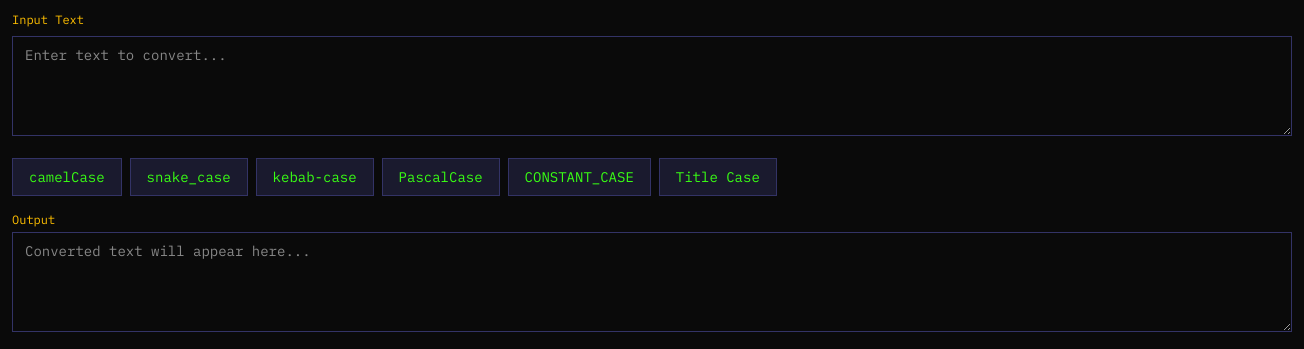
Test: CaseConverter › converts to camelCase when button is clicked
Type "hello_world" into the text box labelled "Input Text". click: (652, 86)
box: x1=12 y1=36 x2=1292 y2=136
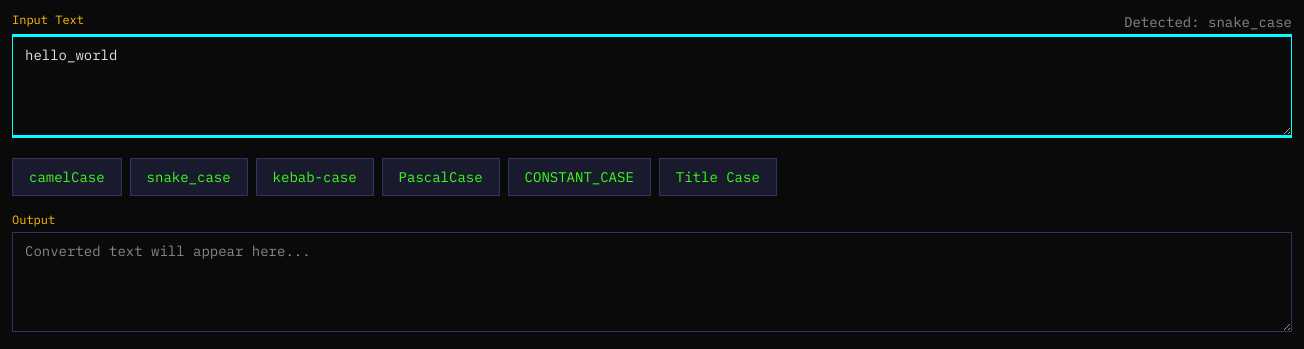
Click the button "camelCase". click: (67, 177)
box: x1=12 y1=158 x2=122 y2=196
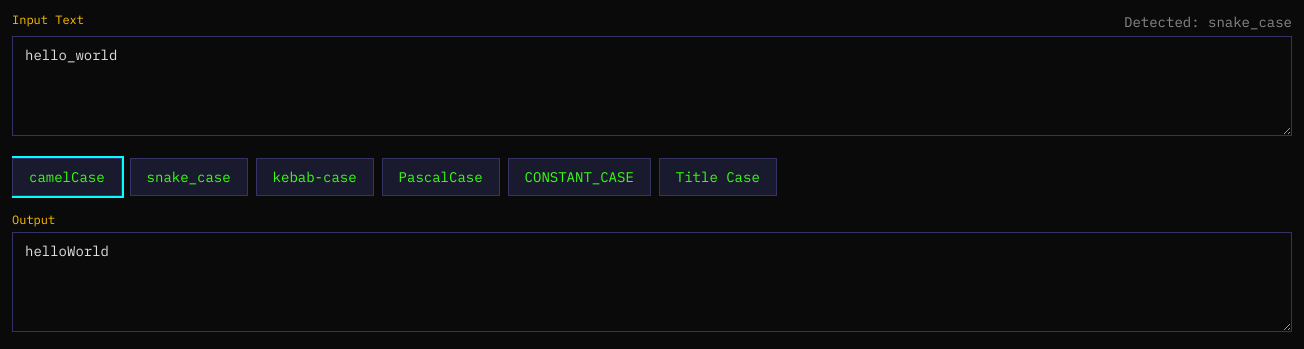
Expected: the text box labelled "Output" holds "helloWorld", x1=12 y1=232 x2=1292 y2=332
